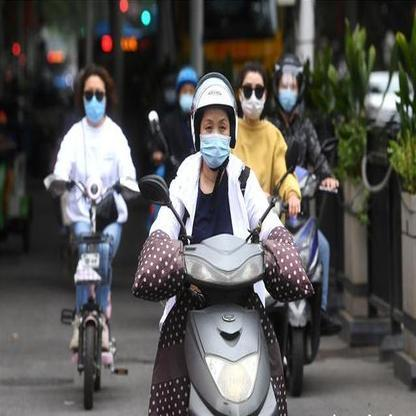target: (135, 71, 318, 411), (41, 63, 136, 411)
